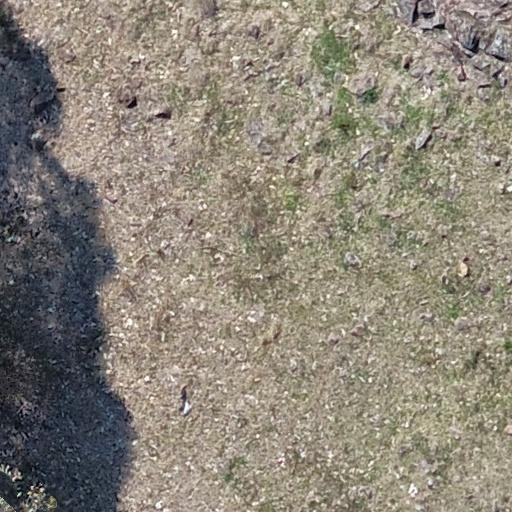stone: (484, 14, 512, 65), (451, 6, 477, 55), (112, 77, 141, 119), (346, 68, 379, 97), (28, 82, 53, 118), (453, 255, 474, 293), (333, 252, 366, 272), (451, 50, 467, 90), (147, 104, 180, 122), (416, 0, 438, 22), (27, 128, 45, 151), (308, 167, 326, 186), (412, 126, 428, 147), (488, 146, 500, 166), (306, 493, 324, 506), (279, 155, 298, 166), (160, 234, 169, 256), (502, 422, 512, 440), (406, 484, 422, 494)
